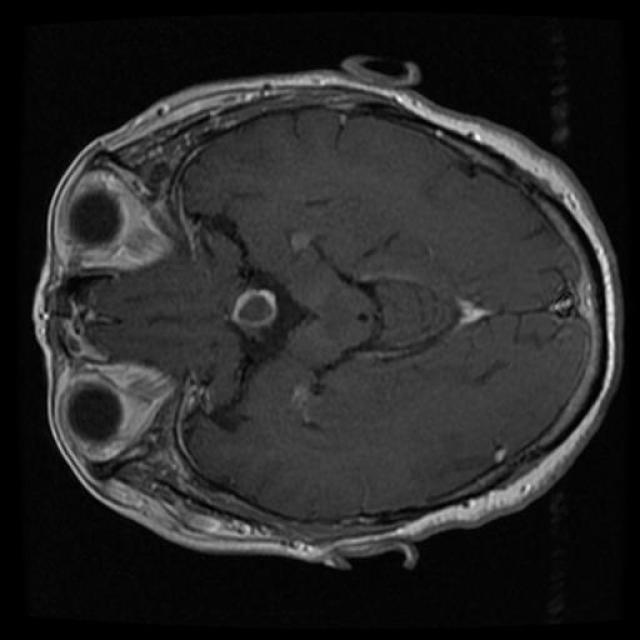Pituitary: (231, 289, 277, 331)
